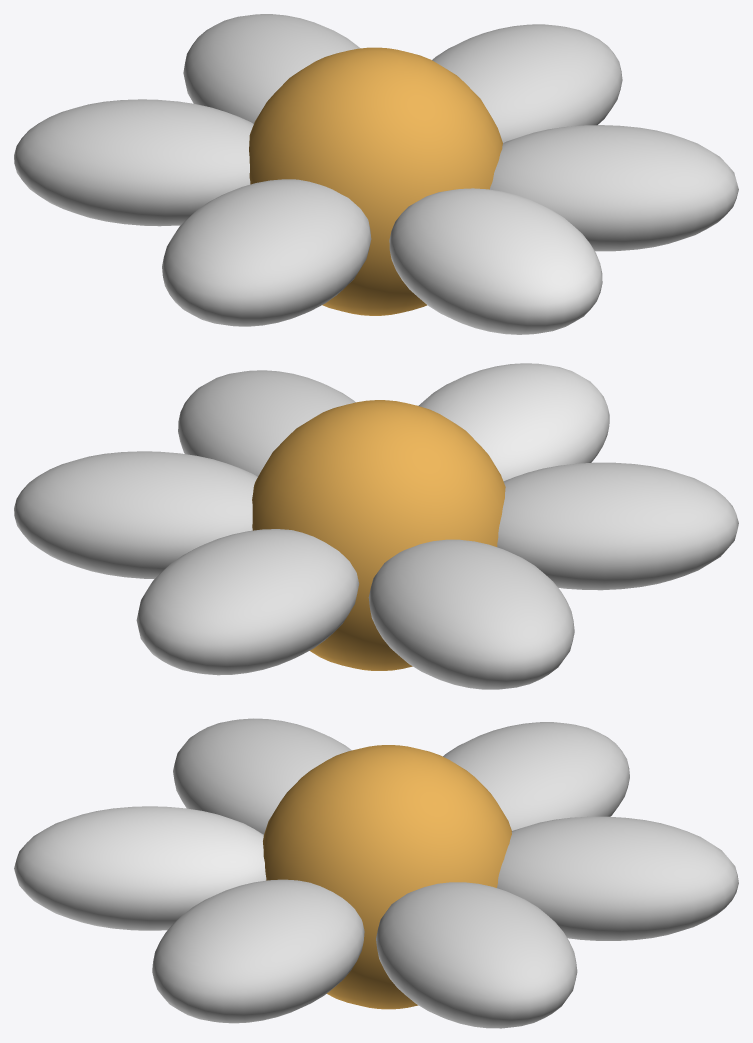
File: PikminFlower.fbx
The picture shows the model from 3 angles, top to bottom: view 1: azimuth 30°, elevation 25°; view 2: azimuth 150°, elevation 25°; view 3: azimuth 270°, elevation 25°; orthographic projection. The views are drawn at different scales.
Parts seen in each view (by area): view 1: Sphere, Sphere.001, Sphere.005, Sphere.003, Sphere.002, Sphere.004, Sphere.006; view 2: Sphere, Sphere.006, Sphere.003, Sphere.005, Sphere.004, Sphere.001, Sphere.002; view 3: Sphere, Sphere.001, Sphere.002, Sphere.006, Sphere.004, Sphere.005, Sphere.003.
Boxes of the visible parts, x1=… form: Sphere: x1=249, y1=47, x2=502, y2=315; Sphere.001: x1=389, y1=188, x2=602, y2=334; Sphere.005: x1=14, y1=99, x2=253, y2=226; Sphere.003: x1=162, y1=179, x2=371, y2=326; Sphere.002: x1=489, y1=125, x2=738, y2=251; Sphere.004: x1=432, y1=24, x2=622, y2=143; Sphere.006: x1=183, y1=14, x2=359, y2=123; Sphere: x1=252, y1=400, x2=505, y2=670; Sphere.006: x1=136, y1=529, x2=359, y2=675; Sphere.003: x1=497, y1=462, x2=738, y2=590; Sphere.005: x1=368, y1=539, x2=574, y2=689; Sphere.004: x1=14, y1=451, x2=257, y2=579; Sphere.001: x1=418, y1=363, x2=609, y2=481; Sphere.002: x1=178, y1=370, x2=355, y2=476; Sphere: x1=263, y1=745, x2=511, y2=1009; Sphere.001: x1=14, y1=806, x2=266, y2=930; Sphere.002: x1=152, y1=879, x2=364, y2=1023; Sphere.006: x1=497, y1=816, x2=738, y2=940; Sphere.004: x1=376, y1=882, x2=577, y2=1028; Sphere.005: x1=443, y1=722, x2=629, y2=830; Sphere.003: x1=173, y1=718, x2=351, y2=834.
Bounding box in the file's own units: 1.18 × 0.4836 × 1.32.
